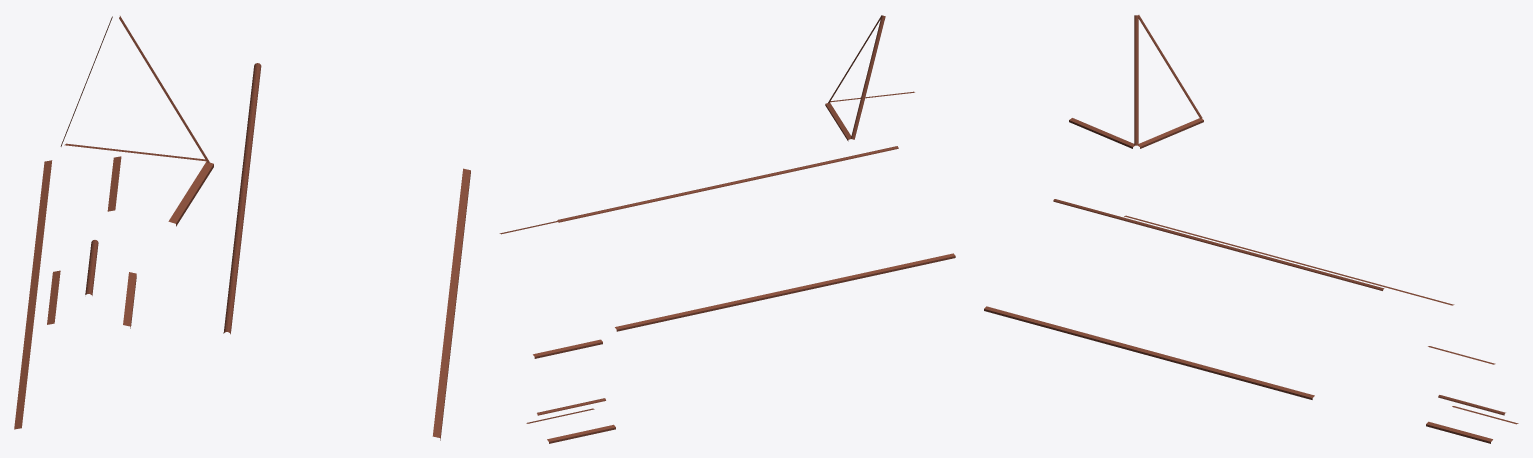
3 renders of one model, left to right at view 1: azimuth 30°, elevation 25°; view 2: azimuth 150°, elevation 25°; view 3: azimuth 270°, elevation 25°, orthographic. The views are drawn at different scales.
Visible parts, largest first — view 1: detail; view 2: detail; view 3: detail.
Part boxes in pixels (<box>): detail: <box>14,16,470,440</box>; detail: <box>499,15,955,443</box>; detail: <box>984,15,1518,443</box>.
Size of the model in its own units: 29.02 by 25.08 by 35.92.
